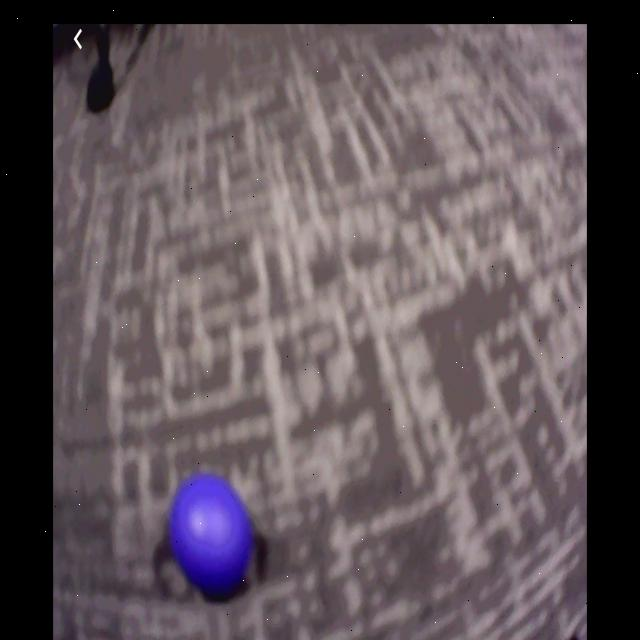ball: (170, 476, 251, 595)
